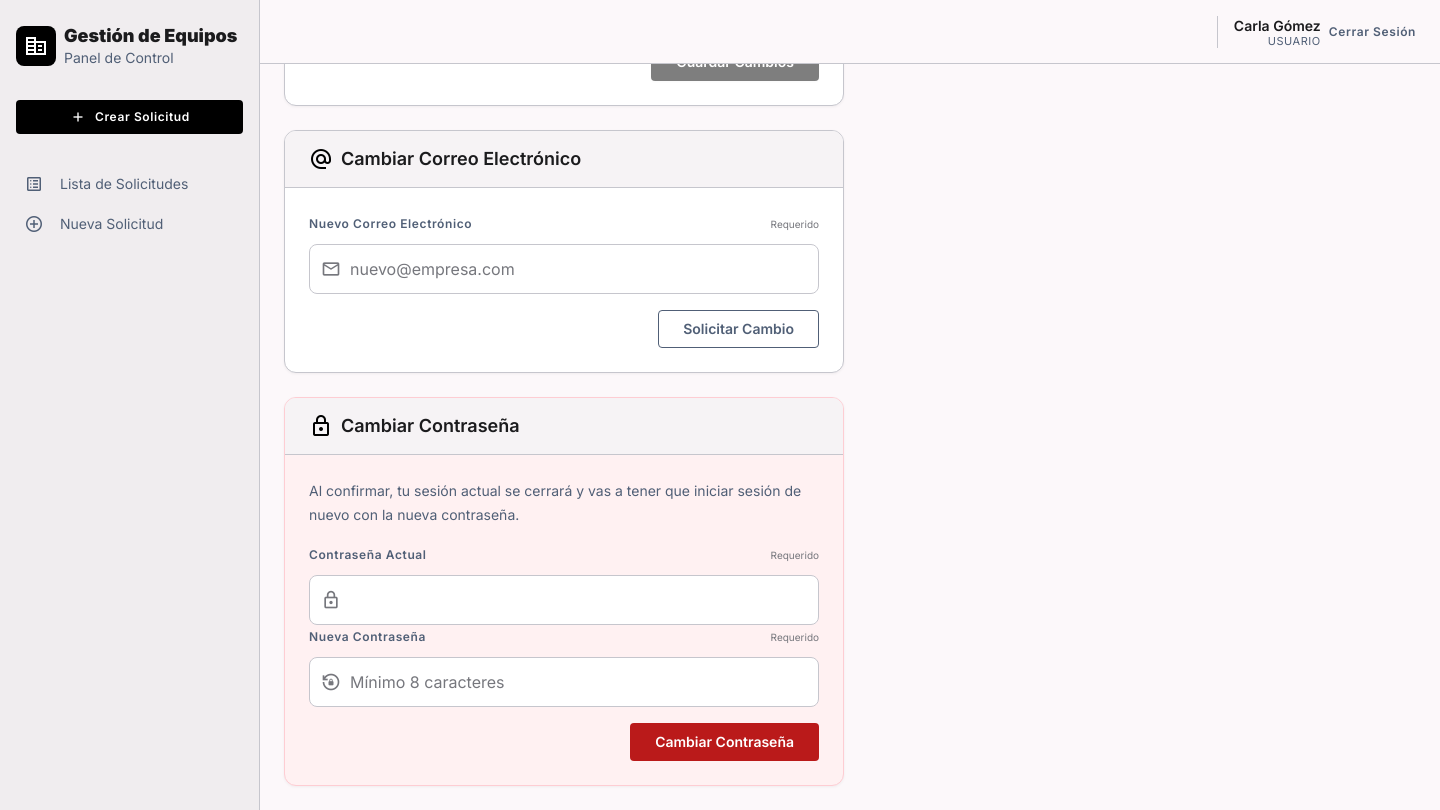
PerfilPage › muestra error si la contraseña actual es incorrecta
(page scrolled)
Type "incorrecta1" into the password field labelled "Contraseña Actual" at (564, 600), box [309,575,819,625]
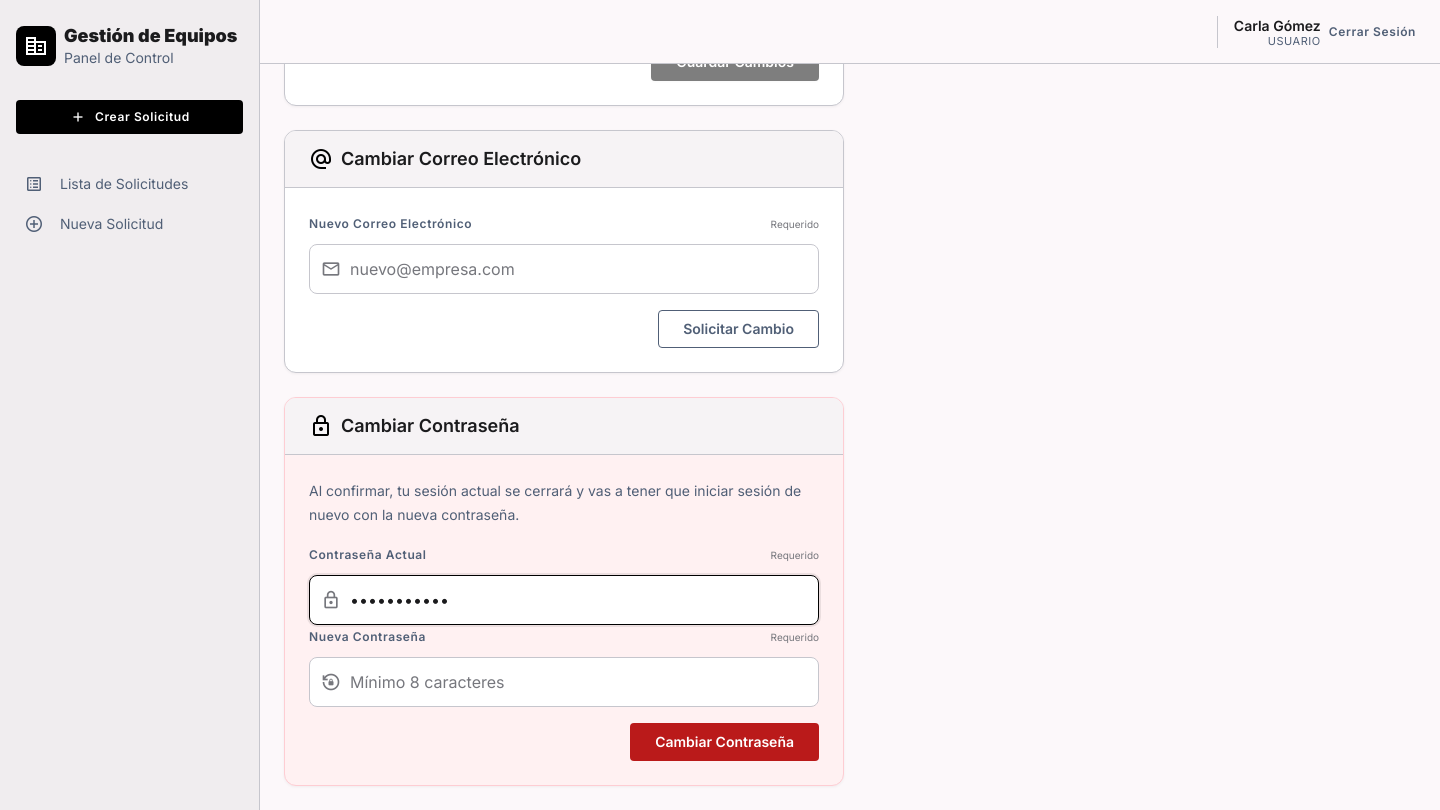
Type "nuevaClave123" into the password field labelled "Nueva Contraseña" at (564, 682), box [309,657,819,707]
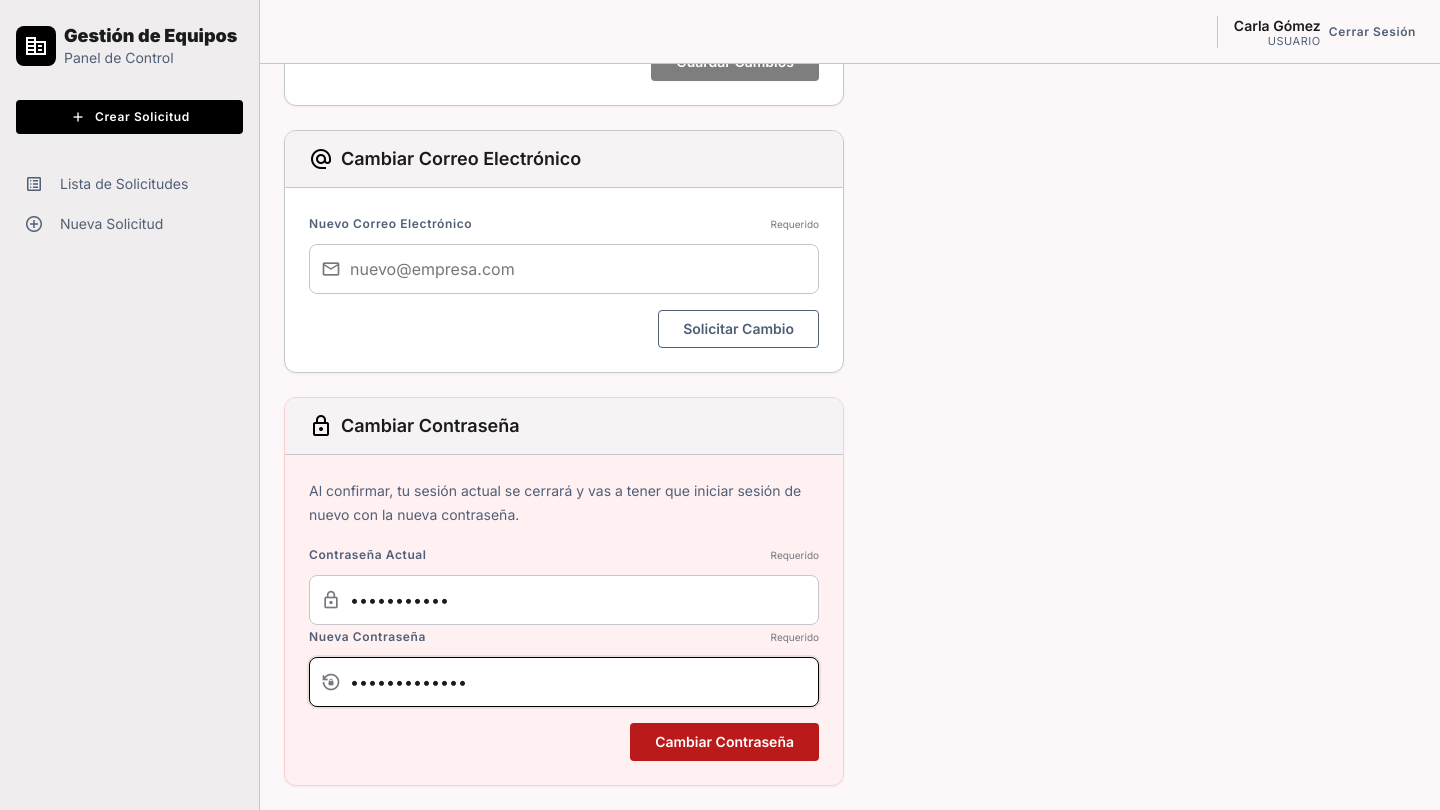
Click the button "Cambiar Contraseña" at (725, 742), box [630,723,819,761]
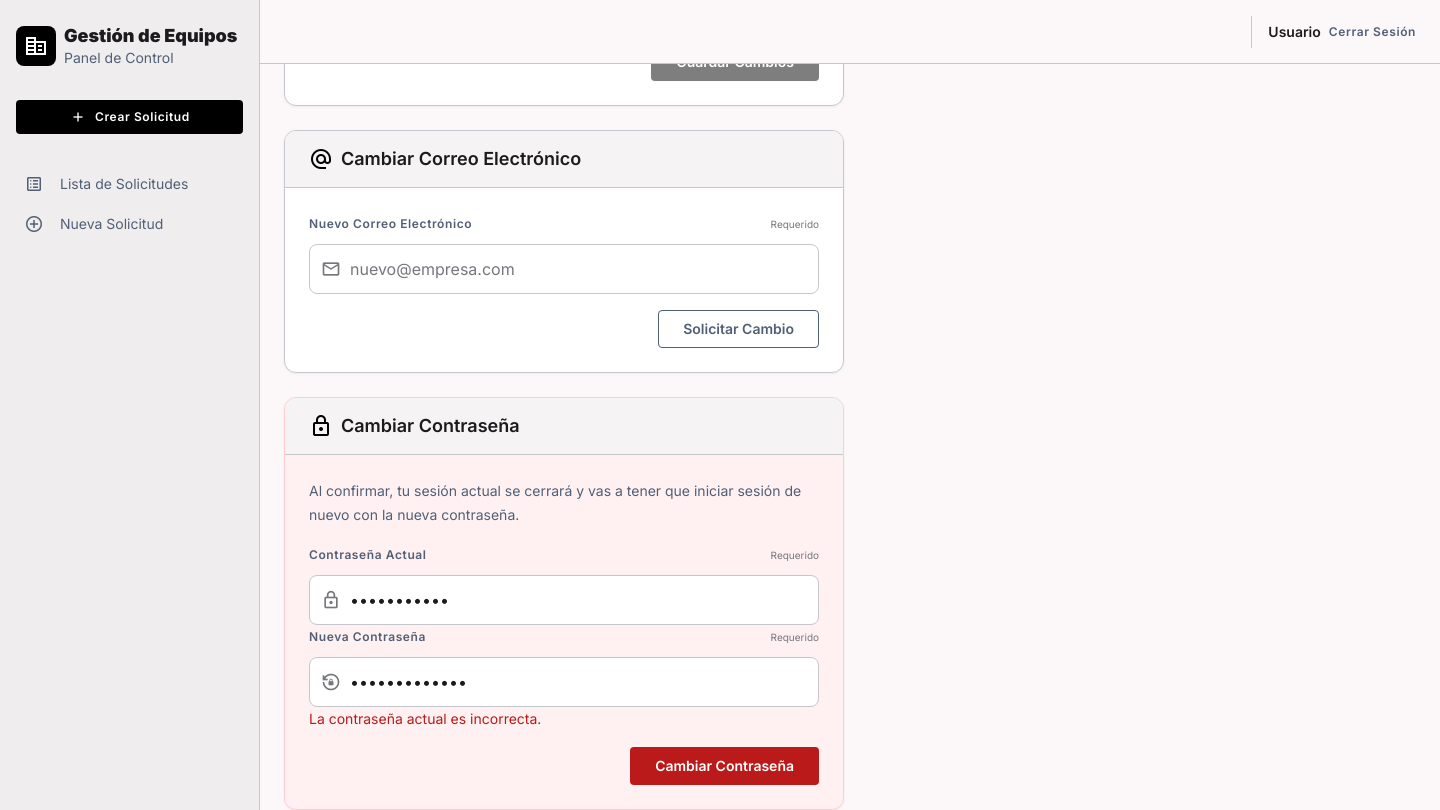
Expected: the text "La contraseña actual es incorrecta." is shown, [309,710,541,727]
